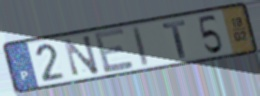2: (34, 42, 67, 83)
5: (195, 13, 225, 55)
E: (92, 26, 136, 76)
I: (131, 24, 151, 68)
N: (61, 33, 102, 78)
T: (161, 18, 188, 60)
